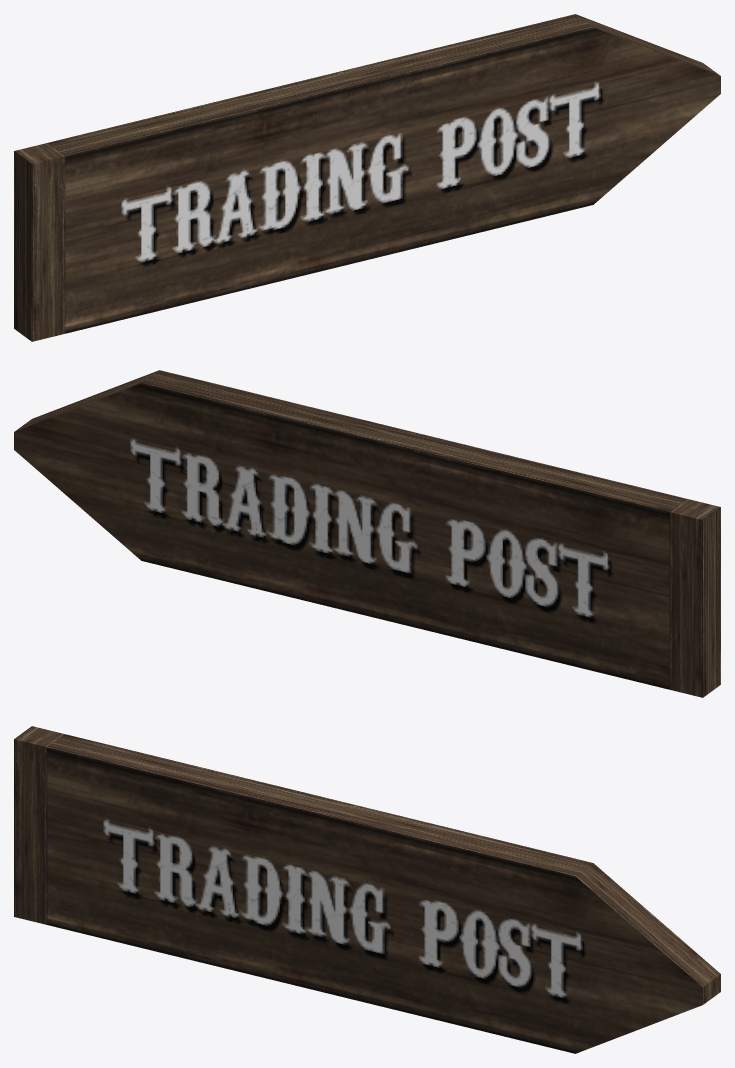
Rendered from wooden-sign-13.fbx.
3 views of the same model, one above another, from view 1: azimuth 30°, elevation 25°; view 2: azimuth 150°, elevation 25°; view 3: azimuth 330°, elevation 25° (orthographic).
Visible parts, largest first — view 1: Cube.262; view 2: Cube.262; view 3: Cube.262.
Part boxes in pixels (x1,y1,x2,y2): Cube.262: (14,14,720,341); Cube.262: (14,370,720,697); Cube.262: (14,726,720,1053).
Size of the model in its own units: 1.21 by 0.2988 by 0.0549.
